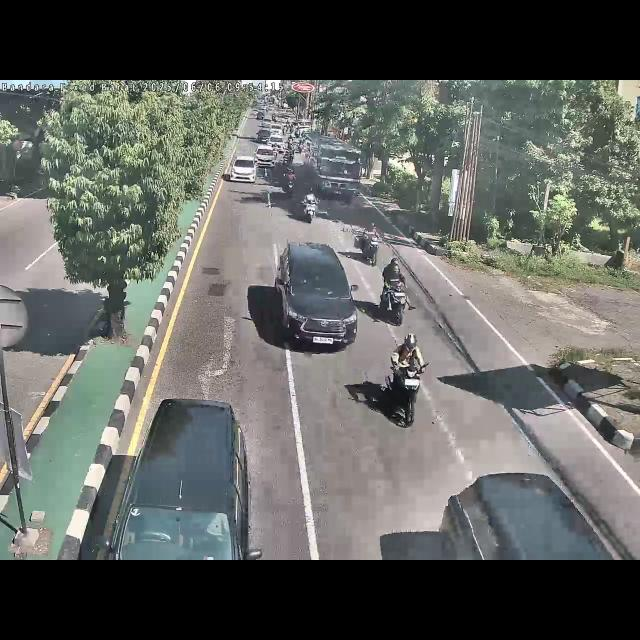Mobil: (111, 402, 262, 560), (436, 468, 640, 560), (275, 240, 363, 354)
Motor: (387, 330, 427, 426), (382, 254, 410, 328), (356, 219, 386, 263), (300, 192, 320, 222)
